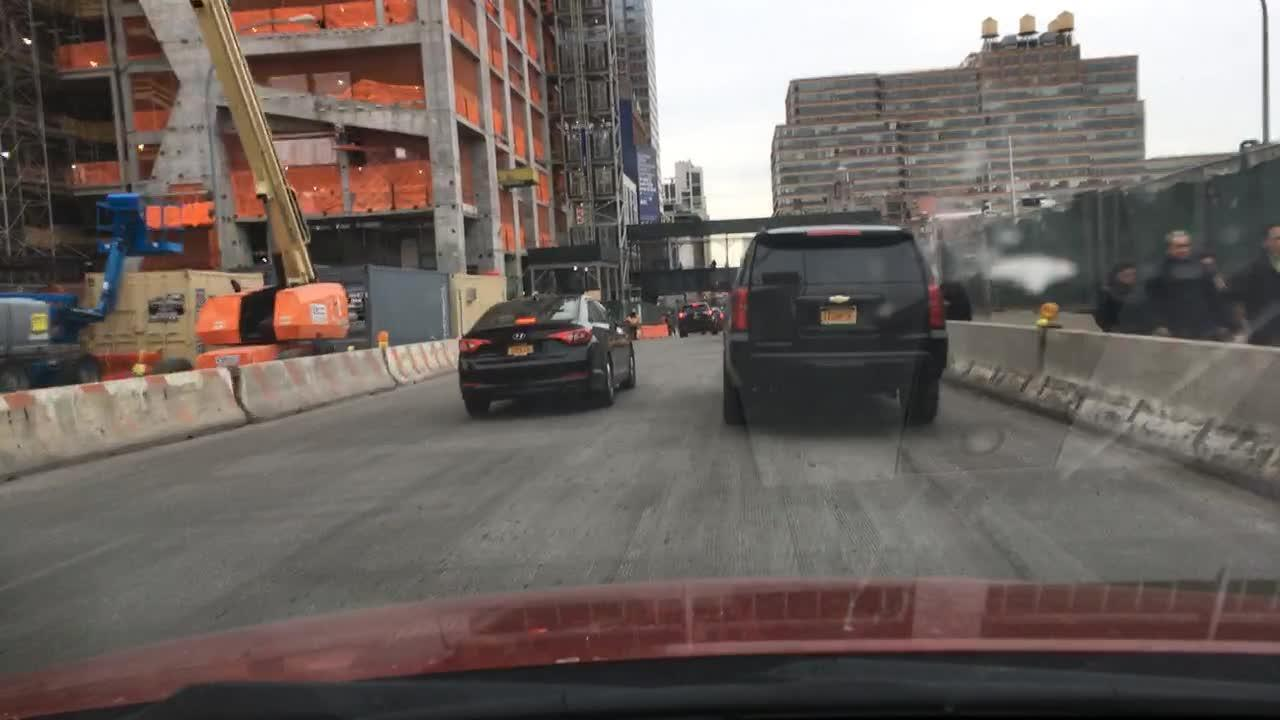Hyundai: (511, 328, 528, 343)
chevrolet: (827, 290, 853, 307)
